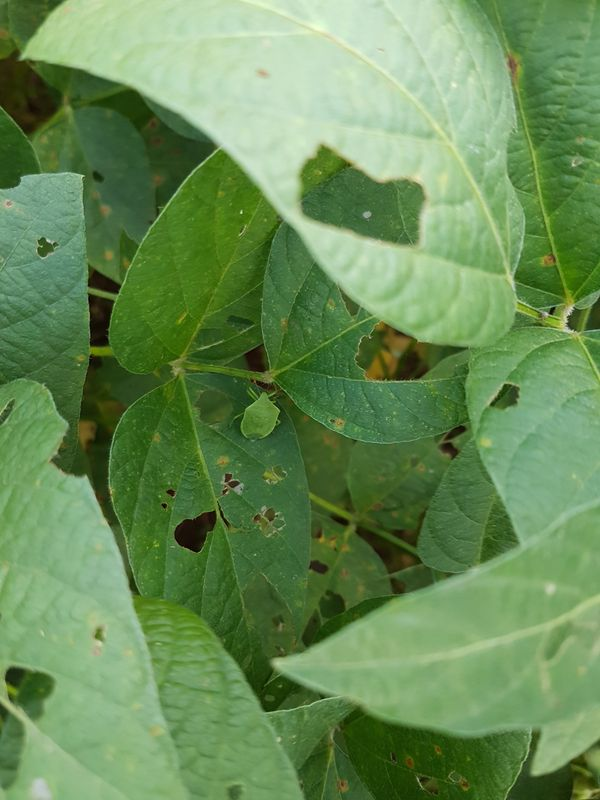Nezara_viridula_adulto: (217, 374, 303, 455)
